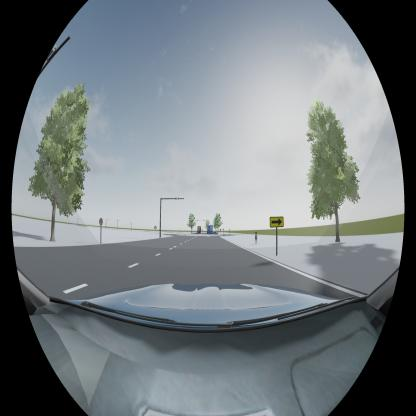Red Light: (175, 197, 179, 200)
Speed Limit 30: (99, 218, 103, 225)
